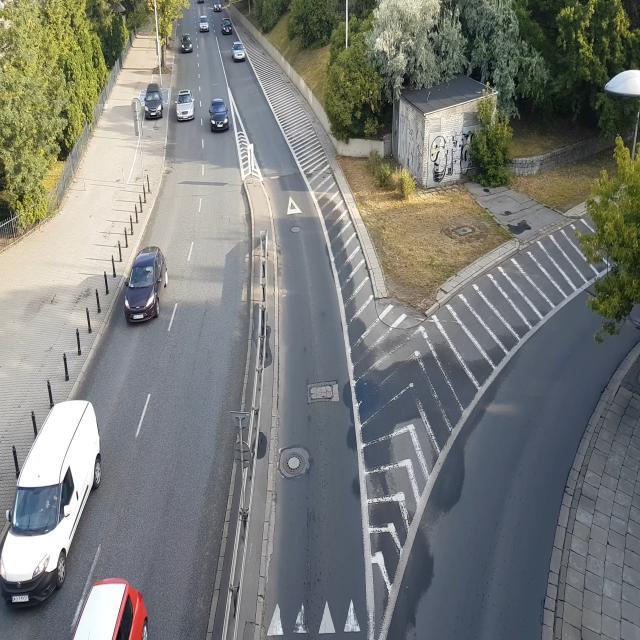car: (0, 398, 73, 610), (124, 248, 165, 322), (210, 97, 230, 134), (144, 88, 166, 119), (176, 91, 196, 121), (176, 29, 194, 58), (232, 43, 246, 63), (199, 18, 211, 32), (222, 22, 234, 34), (214, 2, 224, 14)
